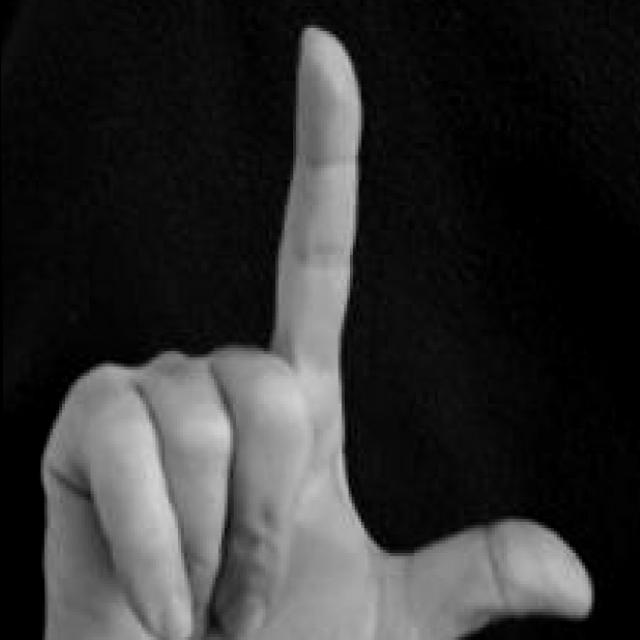L: (38, 12, 610, 640)
